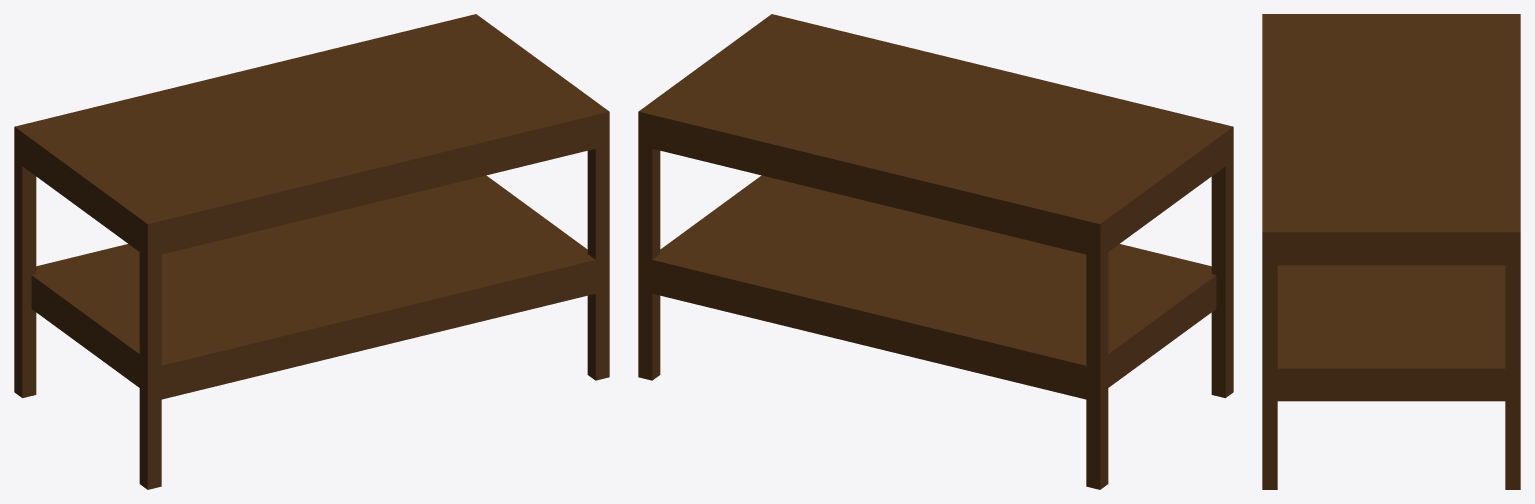
File: BancoDeTrabajo.fbx
3 views of the same model, side by side, from view 1: azimuth 30°, elevation 25°; view 2: azimuth 150°, elevation 25°; view 3: azimuth 270°, elevation 25° (orthographic). The views are drawn at different scales.
Parts seen in each view (by area): view 1: Model; view 2: Model; view 3: Model.
Boxes of the visible parts, x1,y1,x2,y2 form: Model: [14, 14, 609, 489]; Model: [638, 14, 1233, 489]; Model: [1262, 14, 1520, 489].
Bounding box in the file's own units: 2 × 1.1 × 1.
